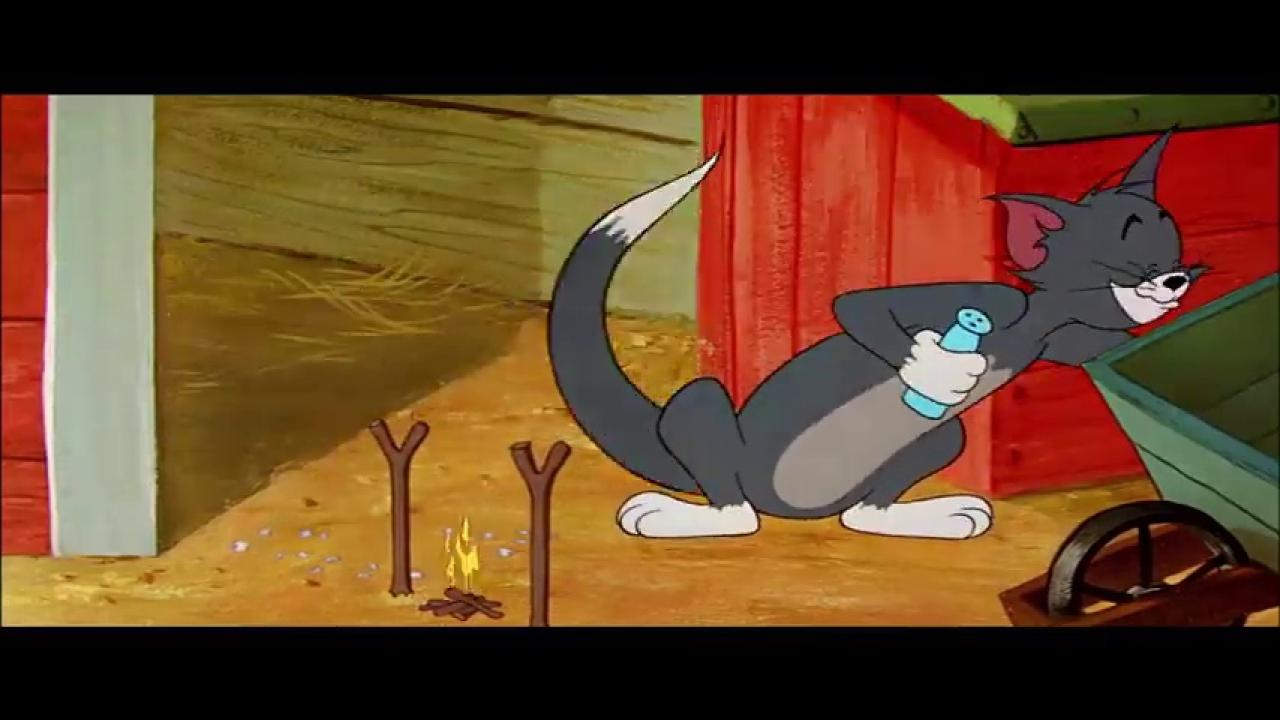Tom: (546, 123, 1215, 542)
